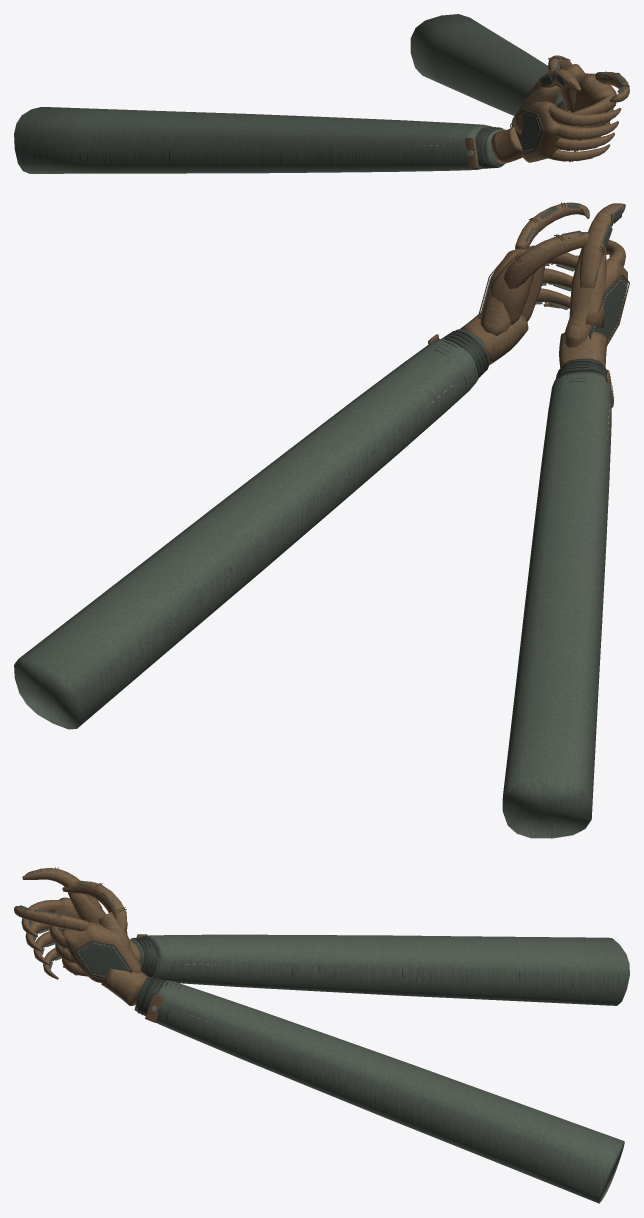
The model's file is hands-pistol.glb.
3 views of the same model, one above another, from view 1: azimuth 30°, elevation 25°; view 2: azimuth 150°, elevation 25°; view 3: azimuth 270°, elevation 25° (orthographic). The views are drawn at different scales.
Parts seen in each view (by area): view 1: LeftHand, RightHand; view 2: RightHand, LeftHand; view 3: RightHand, LeftHand.
Part boxes in pixels (box(x1,y1,x2,y2)): LeftHand: box(14, 69, 621, 173); RightHand: box(410, 14, 629, 127); RightHand: box(14, 202, 589, 729); LeftHand: box(502, 203, 629, 838); RightHand: box(14, 880, 624, 1203); LeftHand: box(21, 867, 629, 1005).
Bounding box in the file's own units: 0.7622 × 0.3979 × 0.891.
8 materials, 6 textured.
